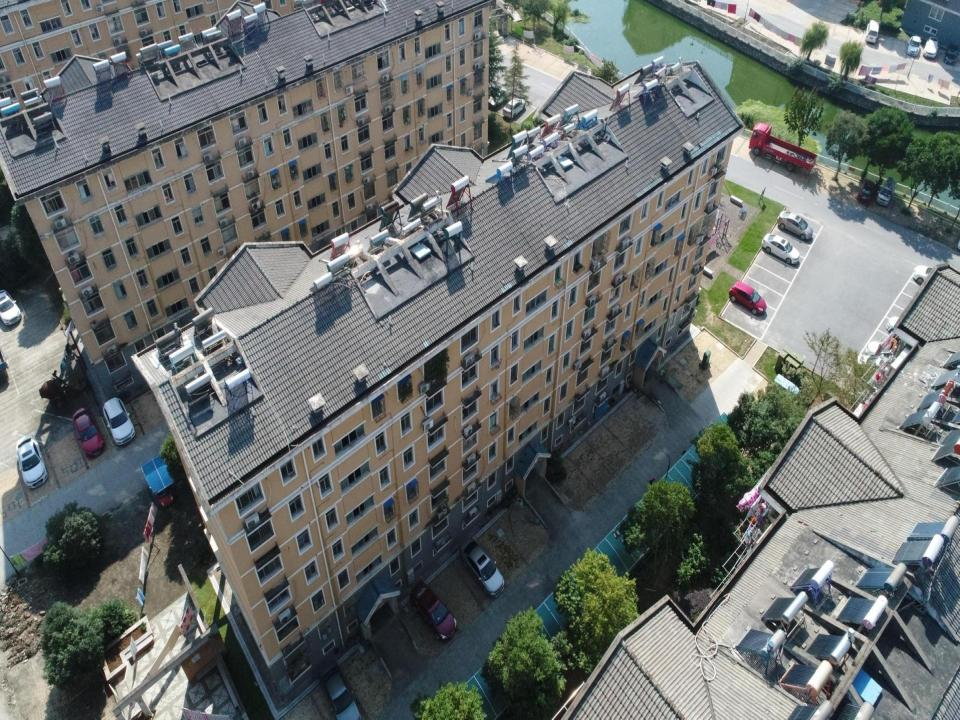car: (409, 580, 457, 642), (459, 537, 505, 599), (317, 658, 362, 719), (16, 434, 48, 489), (73, 406, 104, 458), (103, 397, 135, 446), (728, 281, 767, 316), (761, 233, 800, 265), (777, 210, 813, 242), (0, 289, 22, 326), (876, 176, 898, 207), (856, 178, 877, 205), (503, 98, 526, 120), (488, 86, 510, 106), (923, 36, 939, 60), (943, 42, 959, 66), (907, 35, 921, 57)
truck: (748, 122, 818, 172)
van: (865, 19, 879, 44)
